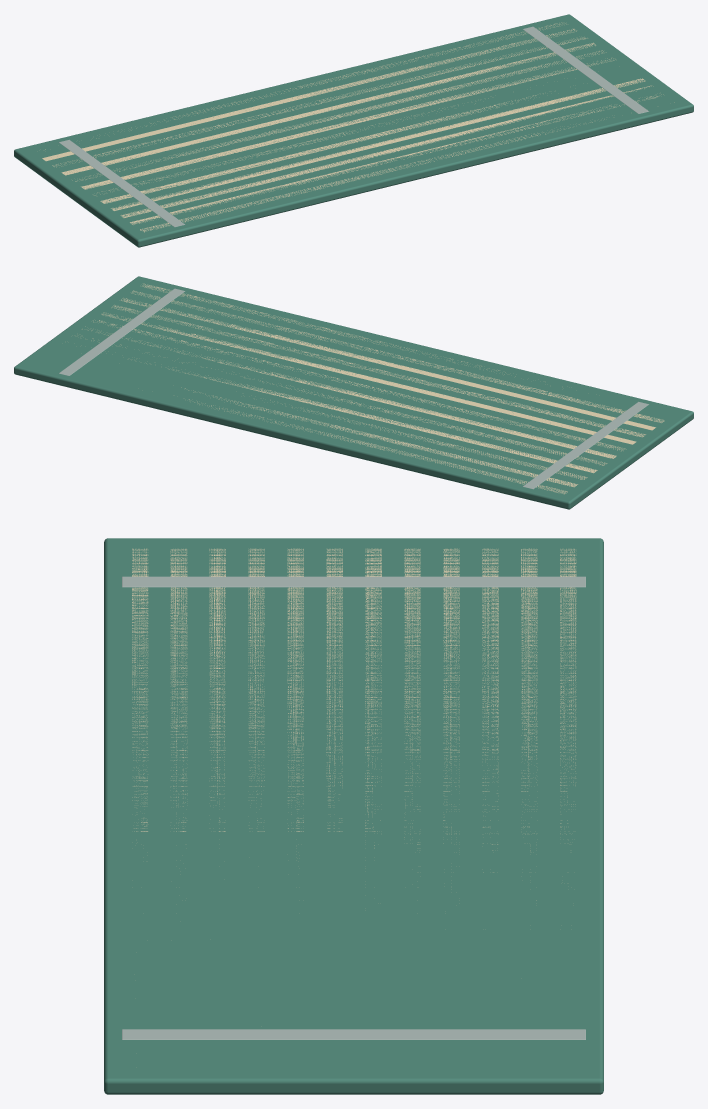
File: interaction-treadle.glb
3 views of the same model, one above another, from view 1: azimuth 30°, elevation 25°; view 2: azimuth 150°, elevation 25°; view 3: azimuth 270°, elevation 25° (orthographic). The views are drawn at different scales.
Parts seen in each view (by area): view 1: treadle_green, treadle_cream, treadle_steel; view 2: treadle_green, treadle_cream, treadle_steel; view 3: treadle_green, treadle_cream, treadle_steel.
Boxes of the visible parts, x1,y1,x2,y2 form: treadle_green: (14,14,693,247); treadle_cream: (42,22,674,232); treadle_steel: (59,26,648,227); treadle_green: (14,276,693,509); treadle_cream: (82,283,664,494); treadle_steel: (59,288,648,489); treadle_green: (104,538,603,1094); treadle_cream: (132,548,576,900); treadle_steel: (122,576,585,1039).
Size of the model in its own units: 3.6 by 0.051 by 1.4.
